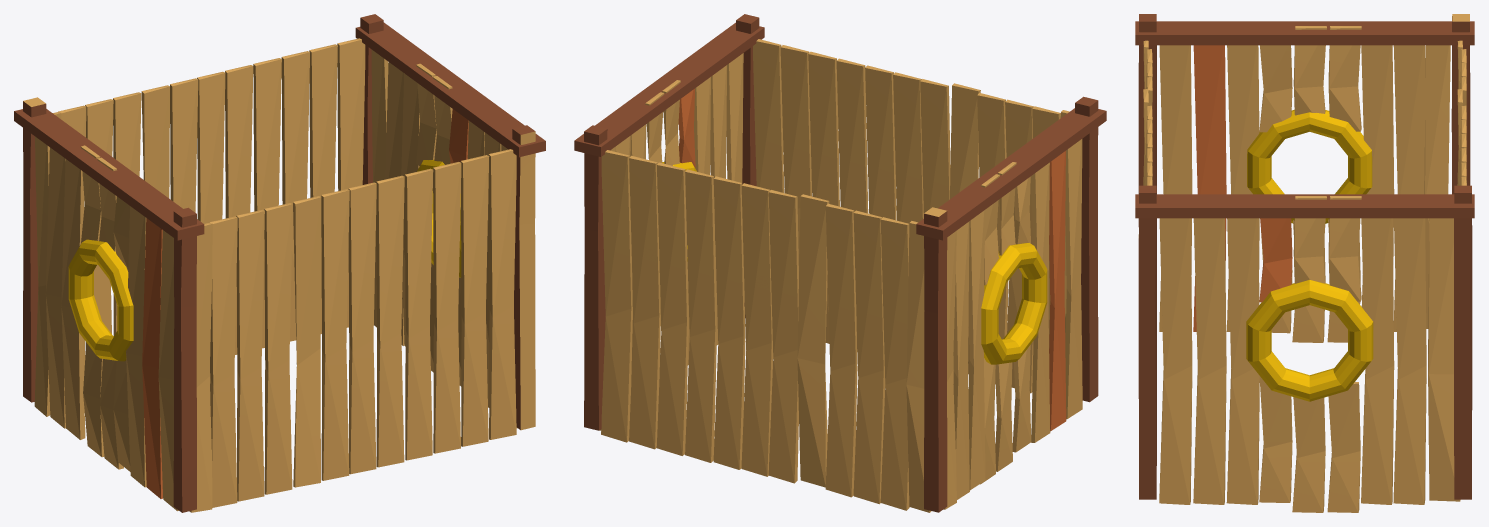
File: Middle house .fbx
3 views of the same model, side by side, from view 1: azimuth 30°, elevation 25°; view 2: azimuth 150°, elevation 25°; view 3: azimuth 270°, elevation 25° (orthographic). The views are drawn at different scales.
Visible parts, largest first — view 1: Middle house; view 2: Middle house; view 3: Middle house.
Part boxes in pixels (<box>): Middle house: <box>14,14,545,512</box>; Middle house: <box>574,14,1106,512</box>; Middle house: <box>1135,14,1474,512</box>.
Bounding box in the file's own units: 331 × 266 × 254.
